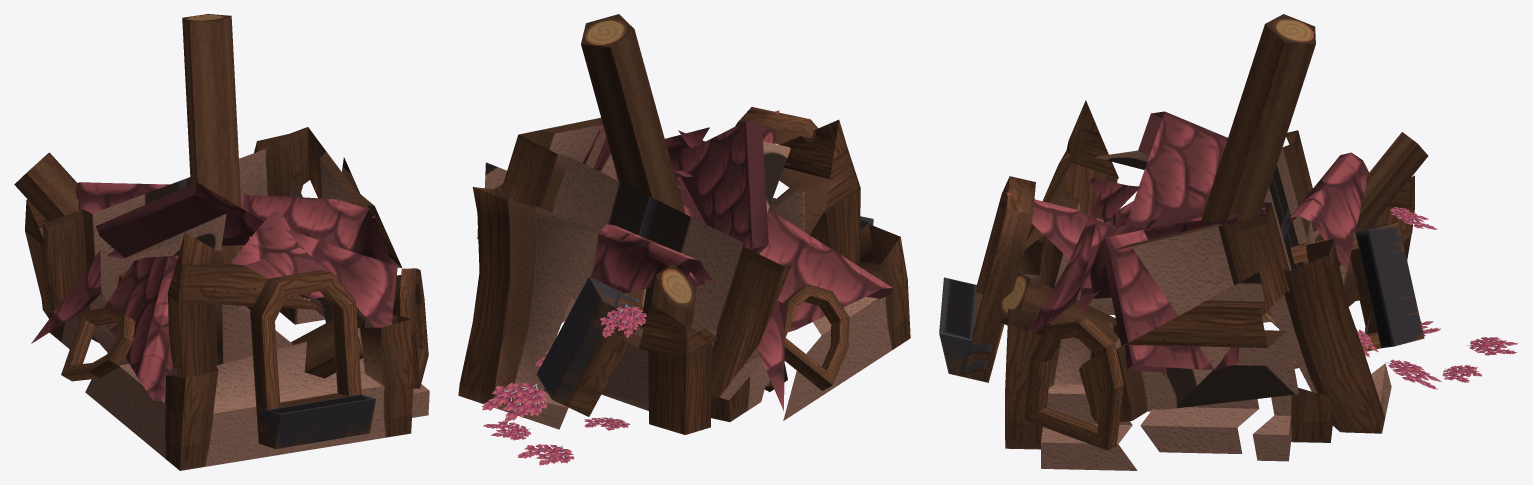
The model's file is House8Pile.fbx.
3 views of the same model, side by side, from view 1: azimuth 30°, elevation 25°; view 2: azimuth 150°, elevation 25°; view 3: azimuth 270°, elevation 25° (orthographic). The views are drawn at different scales.
Parts seen in each view (by area): view 1: Pile6; view 2: Pile6; view 3: Pile6.
Part boxes in pixels (x1,y1,x2,y2): Pile6: (14, 14, 429, 470); Pile6: (458, 14, 910, 465); Pile6: (939, 14, 1518, 470).
Bounding box in the file's own units: 24.29 × 26.88 × 35.08.
